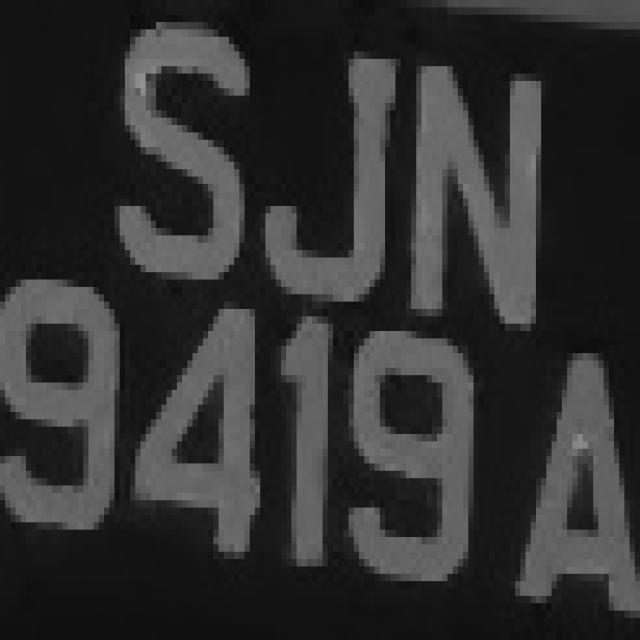1: (292, 272, 338, 589)
4: (125, 250, 281, 581)
9: (5, 228, 125, 566), (344, 302, 474, 603)
A: (510, 302, 640, 632)
J: (244, 22, 406, 316)
N: (401, 37, 567, 346)
S: (94, 22, 255, 294)
